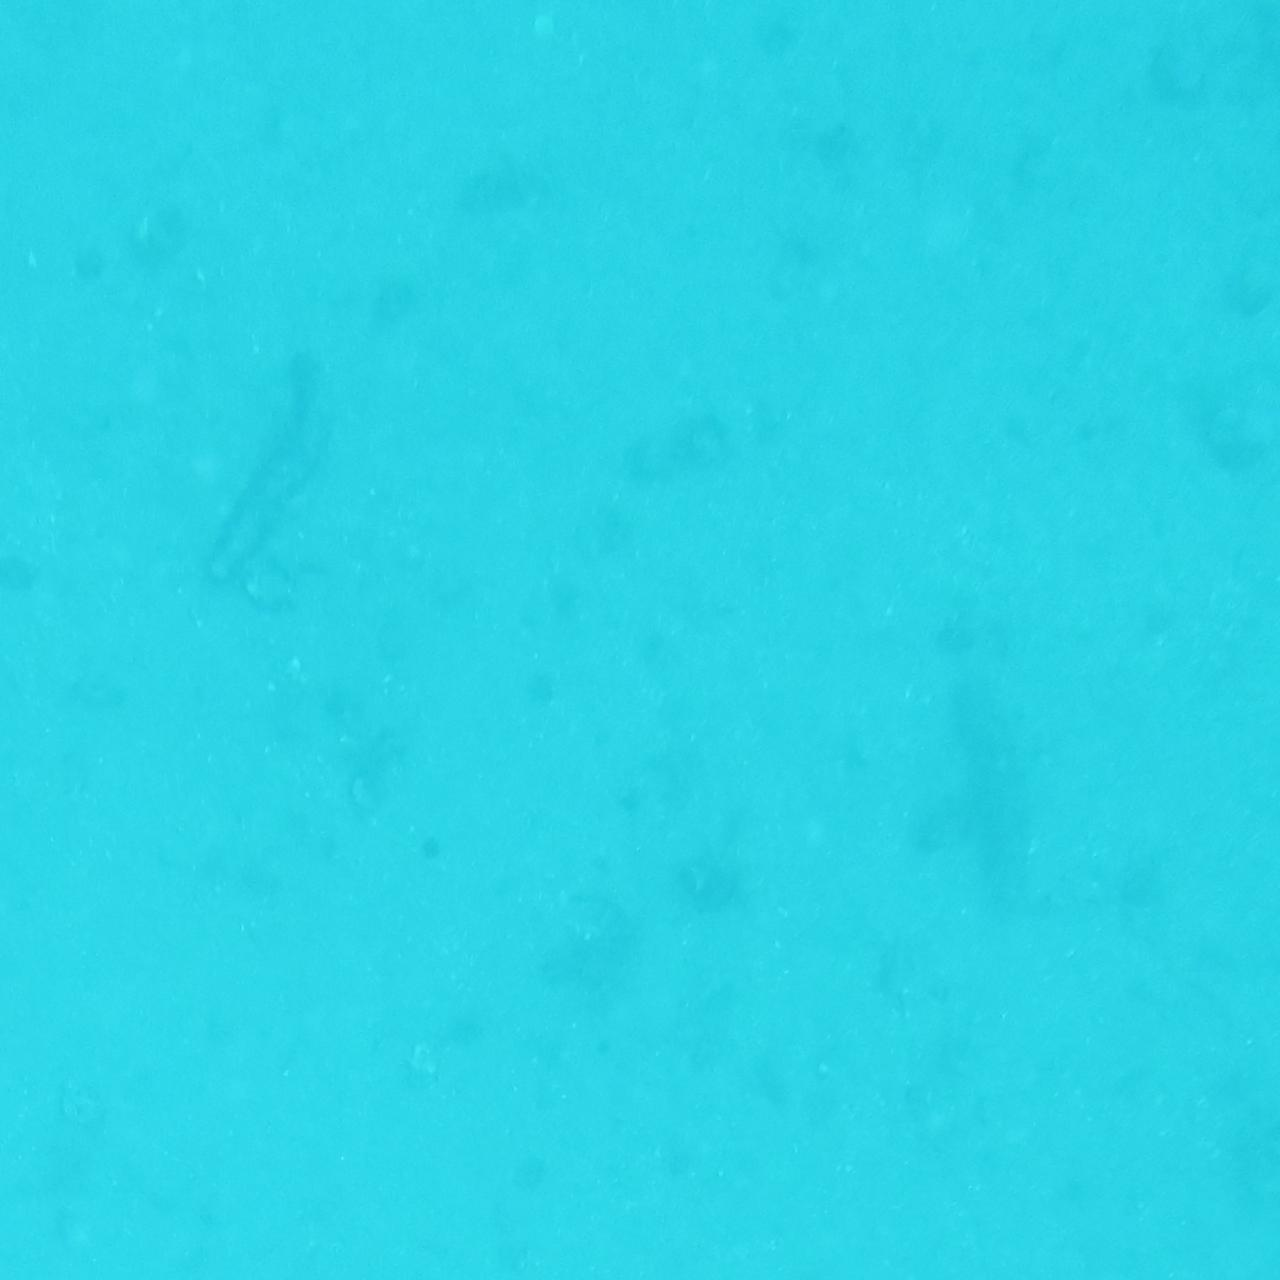Holothuria tubulosa: (937, 658, 1063, 946), (212, 355, 349, 602)
